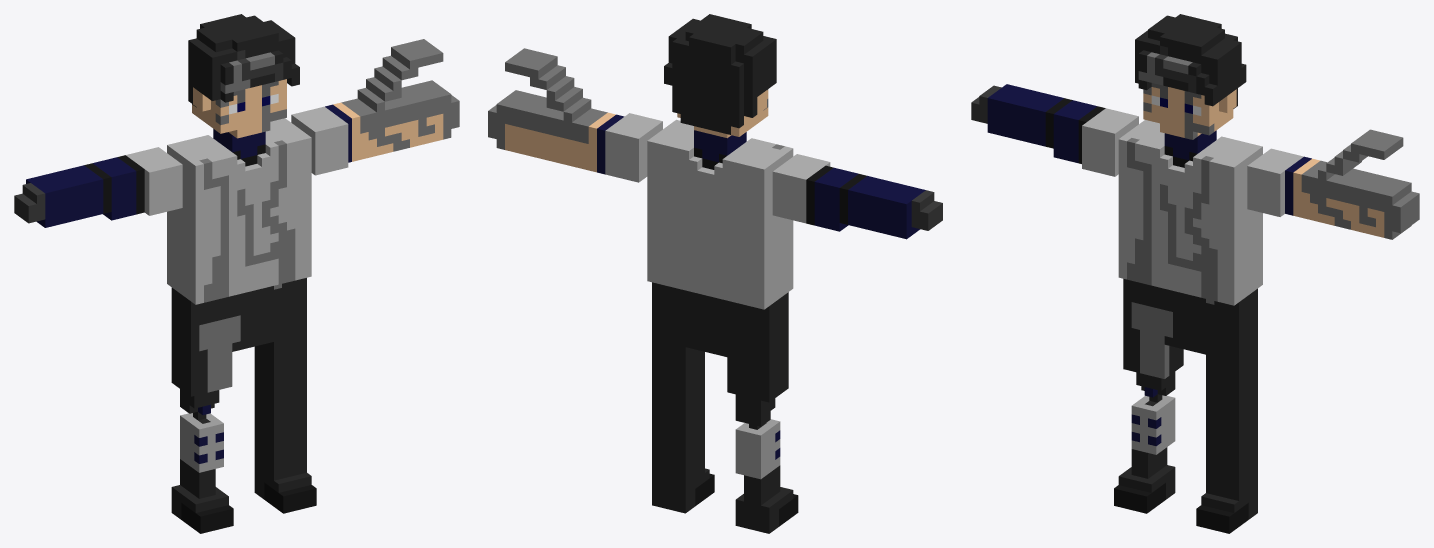
The model's file is monster 1.obj.
3 renders of one model, left to right at view 1: azimuth 30°, elevation 25°; view 2: azimuth 150°, elevation 25°; view 3: azimuth 330°, elevation 25°, orthographic.
Bounding box in the file's own units: 5.2 × 5.5 × 0.7.
1 material, 1 textured.
